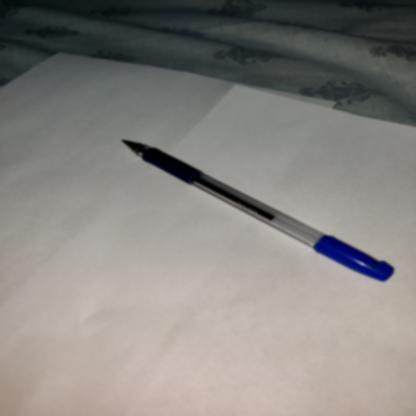Pen: (117, 131, 408, 313)
